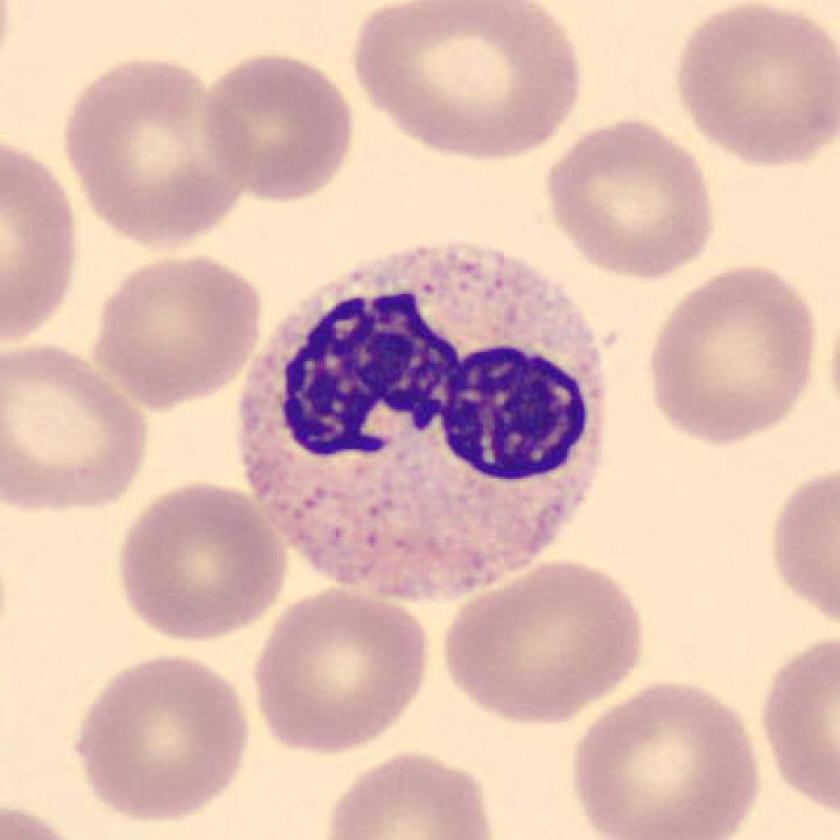neutrophil: (240, 244, 603, 602)
